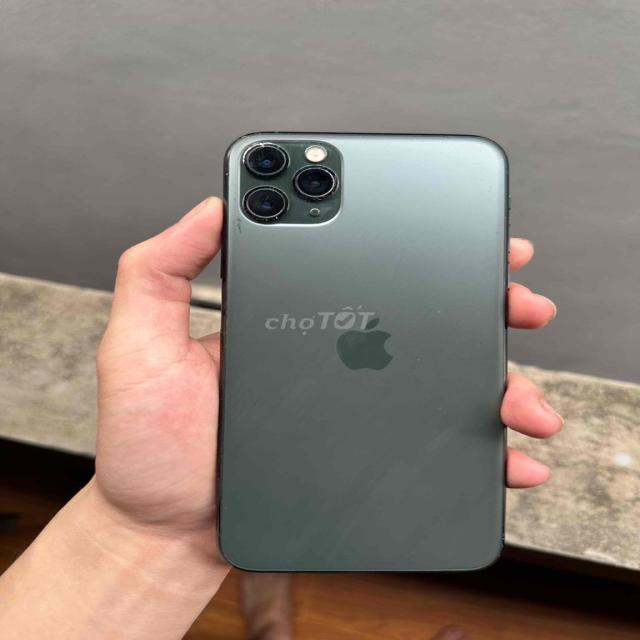gen_11: (212, 123, 522, 581)
